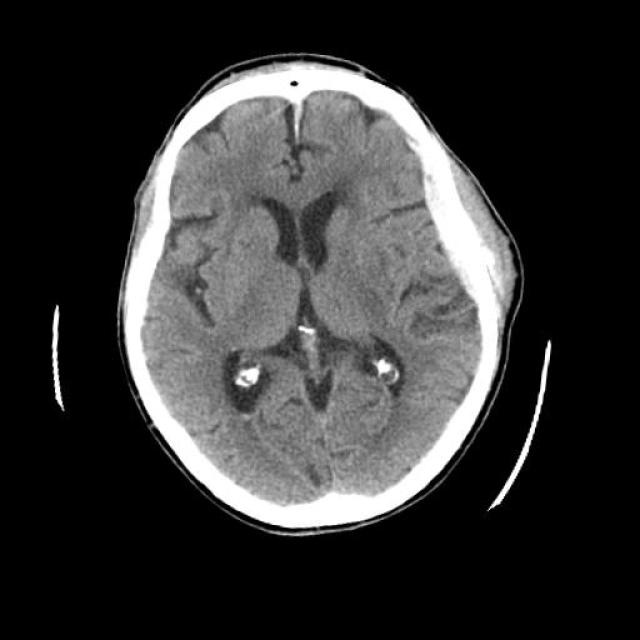Subdural: (386, 132, 538, 340)
